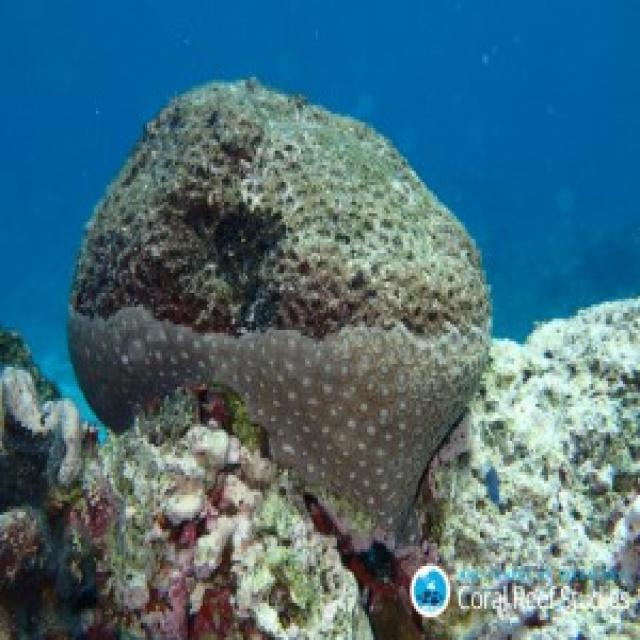Bleached: (191, 84, 495, 328), (430, 294, 640, 640), (83, 422, 384, 640), (1, 366, 83, 489)
Healthy: (73, 87, 189, 316)
